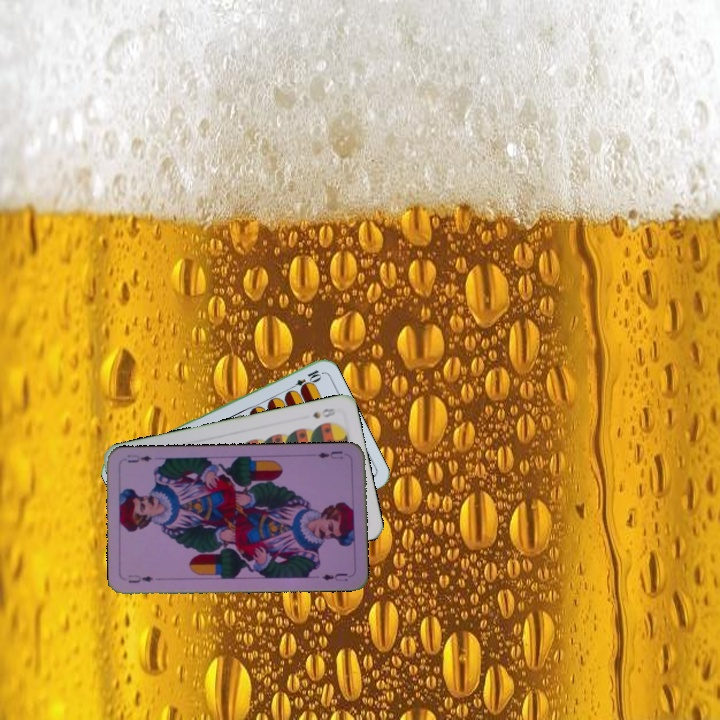E10: (285, 366, 324, 394)
EU: (124, 571, 155, 586), (314, 447, 345, 461)
S8: (309, 404, 338, 421)
